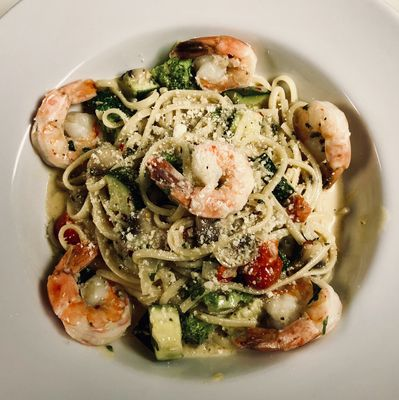curry: (149, 56, 201, 91), (272, 178, 294, 203)
